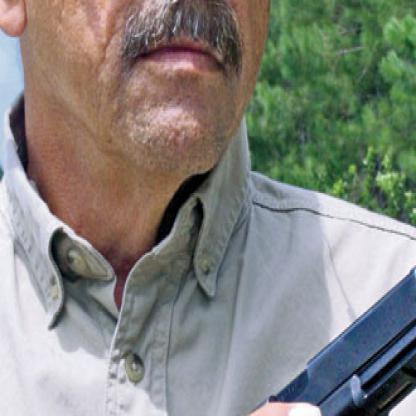gun: (170, 250, 415, 414)
